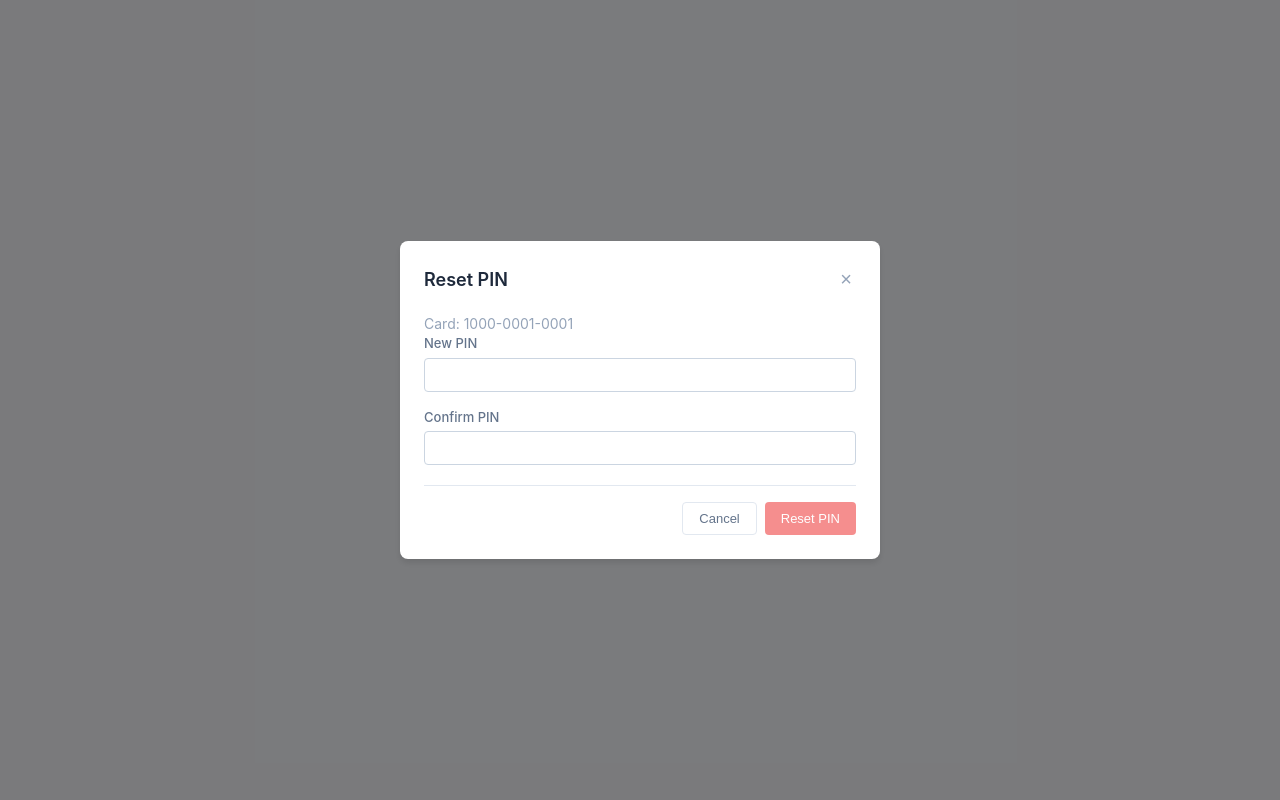
Test: PinResetModal › shows mismatch error when PINs differ
This screenshot has width=1280, height=800.
Type "4826" into the password field labelled "New PIN" at [640, 374], box top-left (424, 358), bottom-right (856, 392)
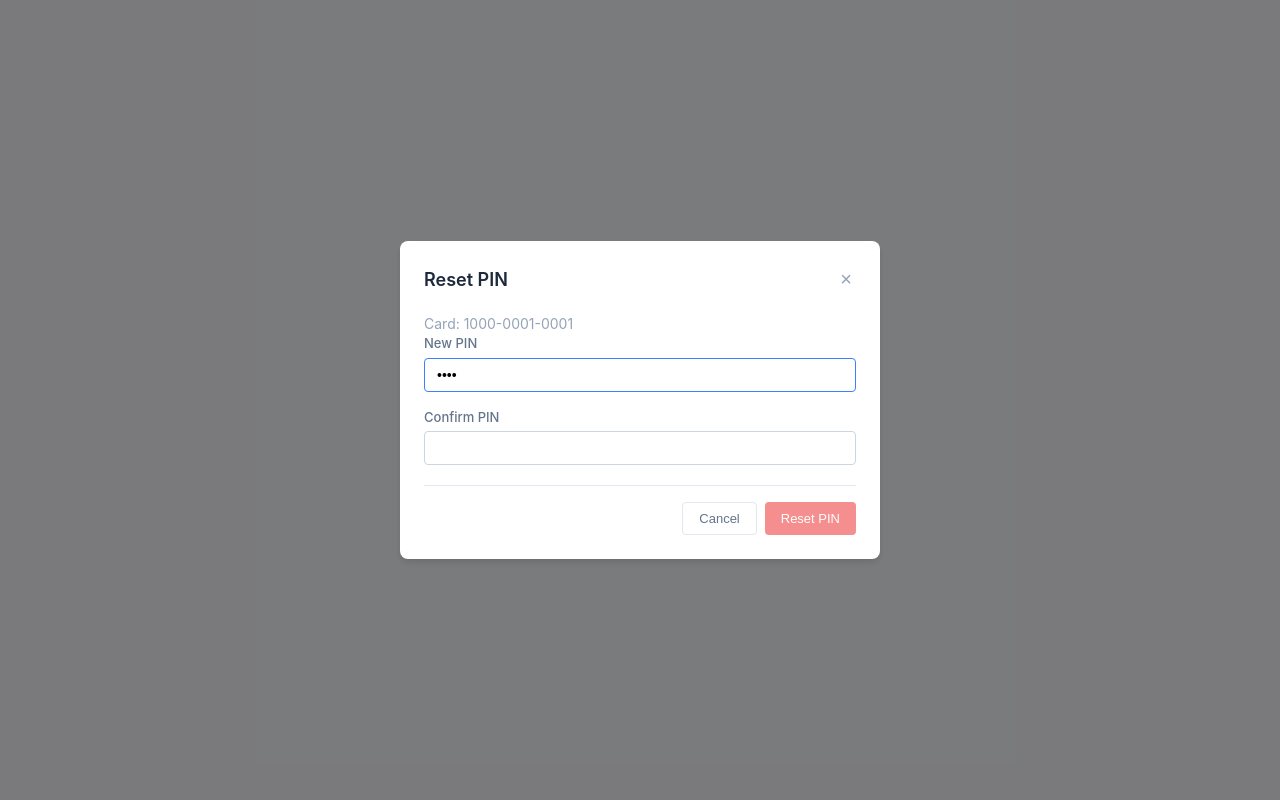
Type "9999" into the password field labelled "Confirm PIN" at [640, 448], box top-left (424, 431), bottom-right (856, 465)
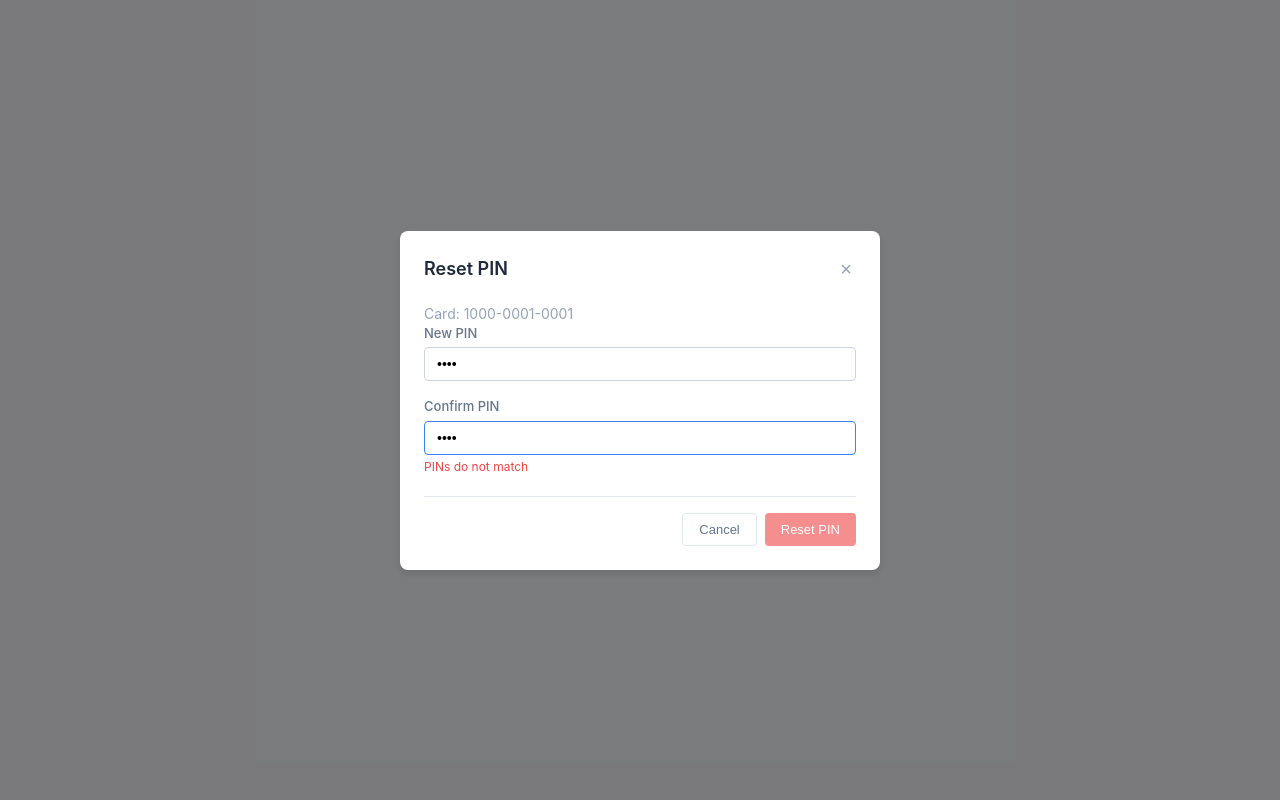
Now the text "PINs do not match" is shown, box top-left (424, 458), bottom-right (528, 474)
